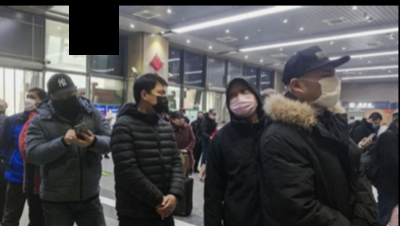with_mask: (305, 66, 341, 108), (227, 86, 257, 116), (50, 91, 78, 113), (149, 86, 169, 113), (23, 91, 38, 109), (371, 119, 381, 128), (216, 123, 223, 130), (210, 111, 216, 119)
without_mask: (175, 115, 184, 125)
